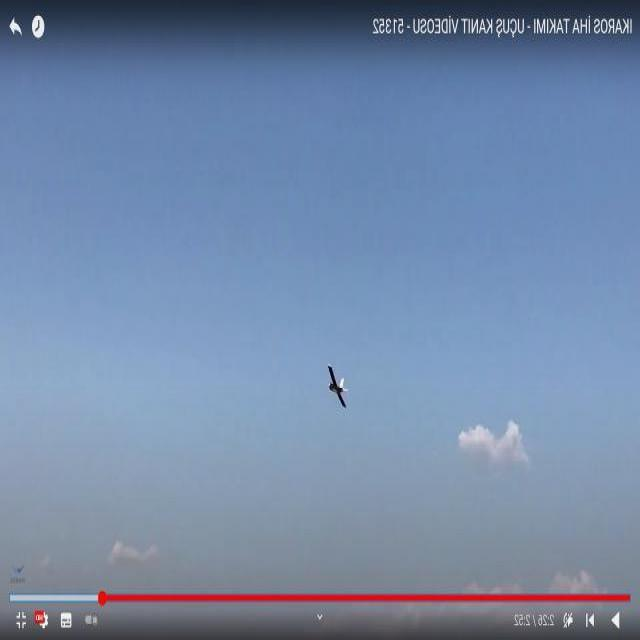UAV: (289, 349, 362, 417)
